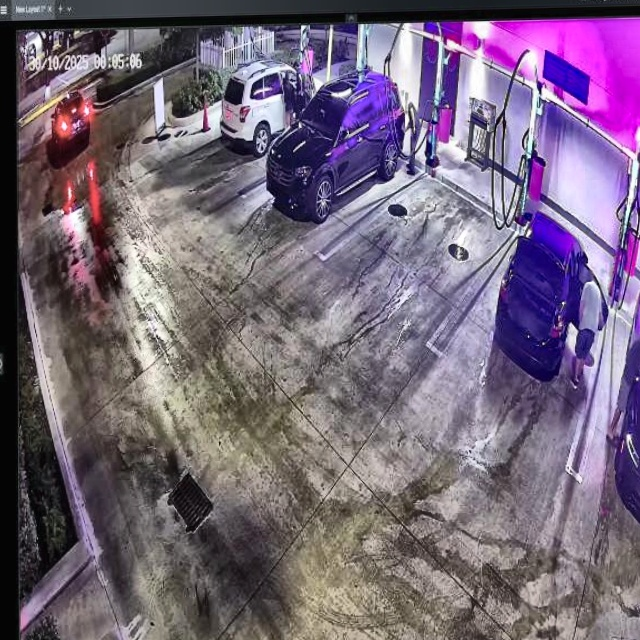Car: (266, 68, 405, 222), (219, 59, 324, 156)
